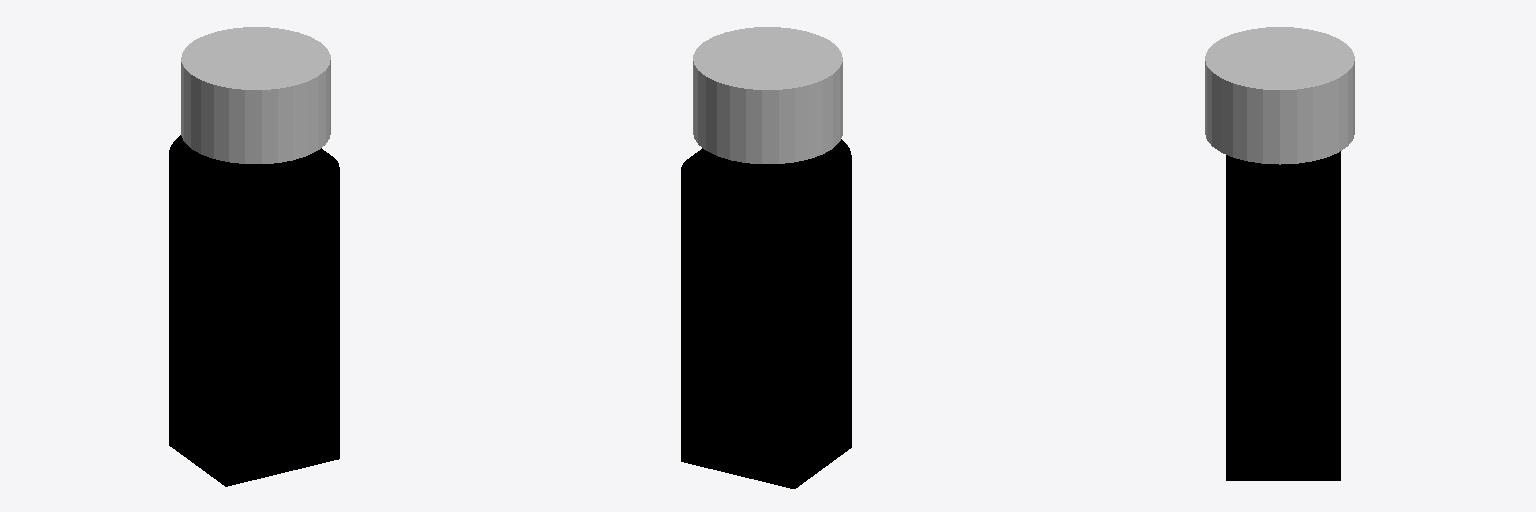
Rendered from pump_arm.obj.
3 views of the same model, side by side, from view 1: azimuth 30°, elevation 25°; view 2: azimuth 150°, elevation 25°; view 3: azimuth 270°, elevation 25° (orthographic).
Parts seen in each view (by area): view 1: pump_arm; view 2: pump_arm; view 3: pump_arm.
Part boxes in pixels (x1,y1,x2,y2): pump_arm: (169, 27, 339, 486); pump_arm: (681, 27, 851, 488); pump_arm: (1205, 27, 1354, 480).
Size of the model in its own units: 0.011 by 0.0319 by 0.011.